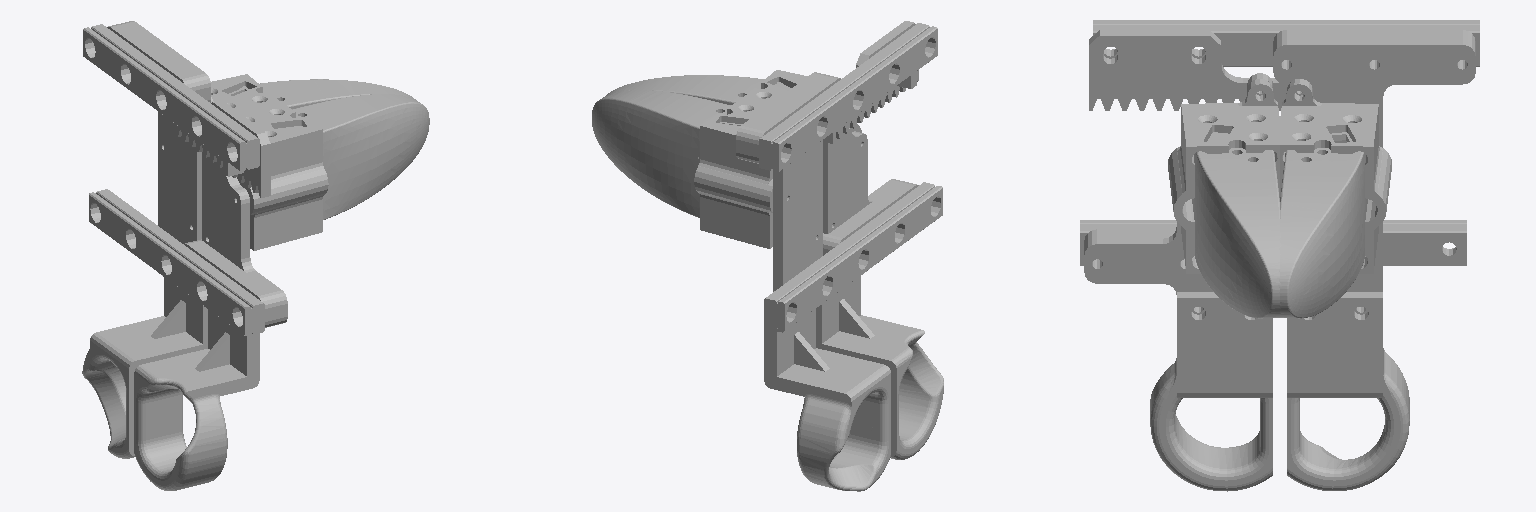
robot.urdf — 手持夹爪总成_0.8-urdf:
<?xml version="1.0" encoding="utf-8"?>
<!-- This URDF was automatically created by SolidWorks to URDF Exporter! Originally created by Stephen Brawner (brawner@gmail.com) 
     Commit Version: 1.6.0-4-g7f85cfe  Build Version: 1.6.7995.38578
     For more information, please see http://wiki.ros.org/sw_urdf_exporter -->
<robot
  name="手持夹爪总成_0.8-urdf">
  <link
    name="base_link">
    <inertial>
      <origin
        xyz="-0.00154097652308979 -8.5326250918143E-05 0.182253877851487"
        rpy="0 0 0" />
      <mass
        value="0.26990601034605" />
      <inertia
        ixx="0.000304086965046531"
        ixy="1.55635855549709E-07"
        ixz="1.53597036753983E-05"
        iyy="0.000263327981601667"
        iyz="1.19793394779989E-06"
        izz="0.000148548786732275" />
    </inertial>
    <visual>
      <origin
        xyz="0 0 0"
        rpy="0 0 0" />
      <geometry>
        <mesh
          filename="package://手持夹爪总成_0.8-urdf/meshes/base_link.STL" />
      </geometry>
      <material
        name="">
        <color
          rgba="0.752941176470588 0.752941176470588 0.752941176470588 1" />
      </material>
    </visual>
    <collision>
      <origin
        xyz="0 0 0"
        rpy="0 0 0" />
      <geometry>
        <mesh
          filename="package://手持夹爪总成_0.8-urdf/meshes/base_link.STL" />
      </geometry>
    </collision>
  </link>
  <link
    name="link1">
    <inertial>
      <origin
        xyz="-0.011987 0.019707 -0.010904"
        rpy="0 0 0" />
      <mass
        value="0.049236" />
      <inertia
        ixx="8.4512E-06"
        ixy="-8.3332E-07"
        ixz="-2.8176E-07"
        iyy="8.743E-06"
        iyz="9.0387E-07"
        izz="1.2455E-05" />
    </inertial>
    <visual>
      <origin
        xyz="0 0 0"
        rpy="0 0 0" />
      <geometry>
        <mesh
          filename="package://手持夹爪总成_0.8-urdf/meshes/link1.STL" />
      </geometry>
      <material
        name="">
        <color
          rgba="0.75294 0.75294 0.75294 1" />
      </material>
    </visual>
    <collision>
      <origin
        xyz="0 0 0"
        rpy="0 0 0" />
      <geometry>
        <mesh
          filename="package://手持夹爪总成_0.8-urdf/meshes/link1.STL" />
      </geometry>
    </collision>
  </link>
  <joint
    name="tip-r"
    type="prismatic">
    <origin
      xyz="0.0485 0 0.16388"
      rpy="-1.5708 0 1.5708" />
    <parent
      link="base_link" />
    <child
      link="link1" />
    <axis
      xyz="-1 0 0" />
    <limit
      lower="0"
      upper="0.04"
      effort="0"
      velocity="0" />
  </joint>
  <link
    name="link2">
    <inertial>
      <origin
        xyz="-0.0089651 -0.0033518 -0.009234"
        rpy="0 0 0" />
      <mass
        value="0.05791" />
      <inertia
        ixx="1.5122E-05"
        ixy="-1.4517E-06"
        ixz="-2.8565E-07"
        iyy="9.5975E-06"
        iyz="-1.9957E-07"
        izz="1.9928E-05" />
    </inertial>
    <visual>
      <origin
        xyz="0 0 0"
        rpy="0 0 0" />
      <geometry>
        <mesh
          filename="package://手持夹爪总成_0.8-urdf/meshes/link2.STL" />
      </geometry>
      <material
        name="">
        <color
          rgba="0.75294 0.75294 0.75294 1" />
      </material>
    </visual>
    <collision>
      <origin
        xyz="0 0 0"
        rpy="0 0 0" />
      <geometry>
        <mesh
          filename="package://手持夹爪总成_0.8-urdf/meshes/link2.STL" />
      </geometry>
    </collision>
  </link>
  <joint
    name="tip-l"
    type="prismatic">
    <origin
      xyz="0.0485 0 0.16388"
      rpy="1.5708 0 -1.5708" />
    <parent
      link="base_link" />
    <child
      link="link2" />
    <axis
      xyz="1 0 0" />
    <limit
      lower="-0.04"
      upper="0"
      effort="0"
      velocity="0" />
  </joint>
</robot>

--- What the picture shows (computed from the rendered views, not written in the file) ---
The picture shows the robot from 3 angles, left to right: view 1: azimuth 30°, elevation 25°; view 2: azimuth 150°, elevation 25°; view 3: azimuth 270°, elevation 25°; orthographic projection.
Model 手持夹爪总成_0.8-urdf with 3 links and 2 joints (2 prismatic), rooted at base_link, posed every joint at zero.
Links seen in each view (by area): view 1: link1, link2; view 2: link2, link1; view 3: link2, link1.
Link boxes in pixels (left/top/right/bottom): link1: left=89, top=94, right=429, bottom=490; link2: left=82, top=21, right=416, bottom=458; link2: left=592, top=21, right=937, bottom=491; link1: left=606, top=70, right=943, bottom=459; link2: left=1089, top=20, right=1479, bottom=490; link1: left=1080, top=73, right=1466, bottom=491.
Bounding box of the posed robot: 0.0959 × 0.091 × 0.1175 m (x, y, z).
Meshes: 3 distinct files referenced, 2 mesh visuals loaded (2 binary STL); not drawn: 1 (reference not matched to a file when rendering).
